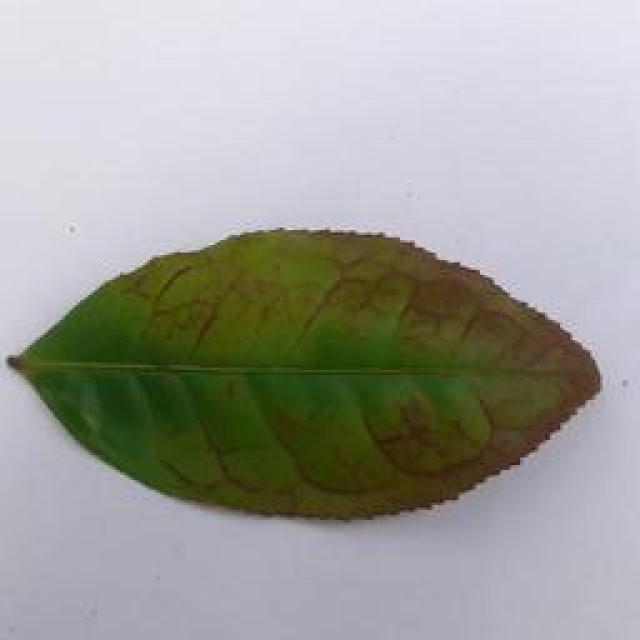Red Leaf Spot: (5, 202, 620, 536)
